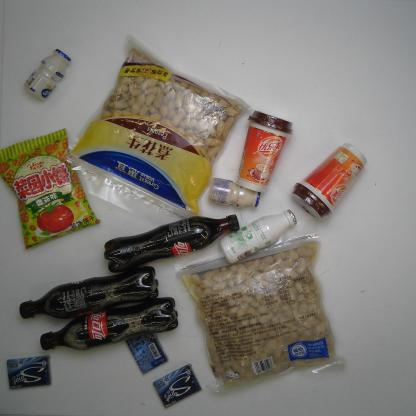Dried Food: (58, 34, 253, 226), (170, 220, 347, 396)
Drink: (103, 214, 241, 274), (39, 295, 180, 351), (18, 266, 160, 320)
Gum: (152, 363, 202, 408), (124, 331, 170, 375), (6, 354, 53, 390)
Instant Drink: (290, 140, 369, 221), (234, 110, 294, 195)
Milk: (218, 208, 299, 265), (25, 48, 72, 102), (206, 176, 262, 209)
Puffed Food: (0, 126, 102, 252)
